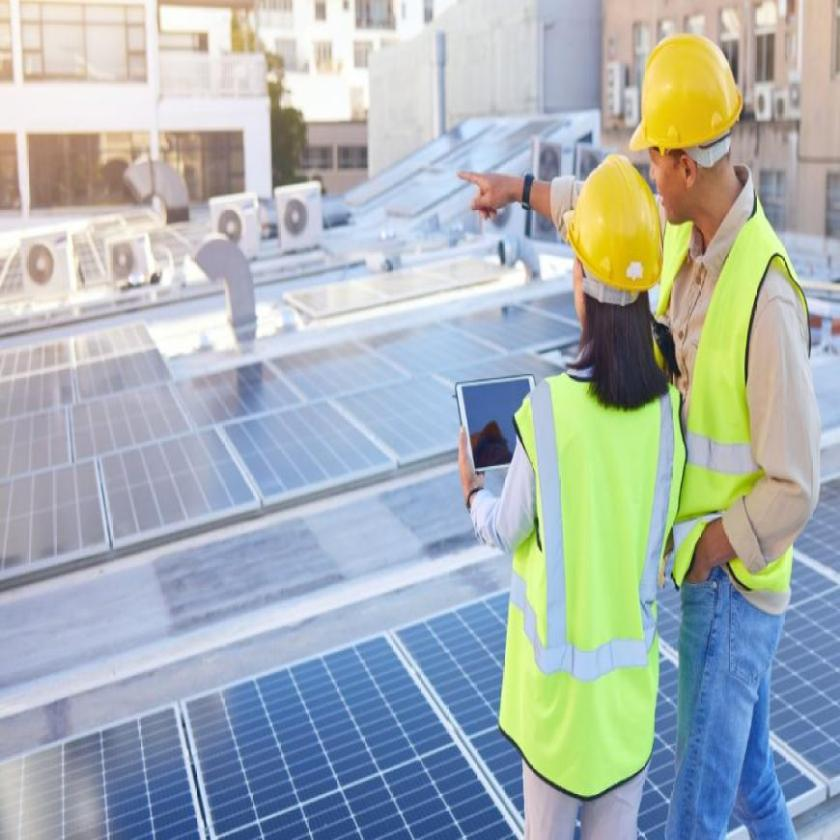Con_casco: (558, 146, 667, 346), (644, 32, 745, 233)
